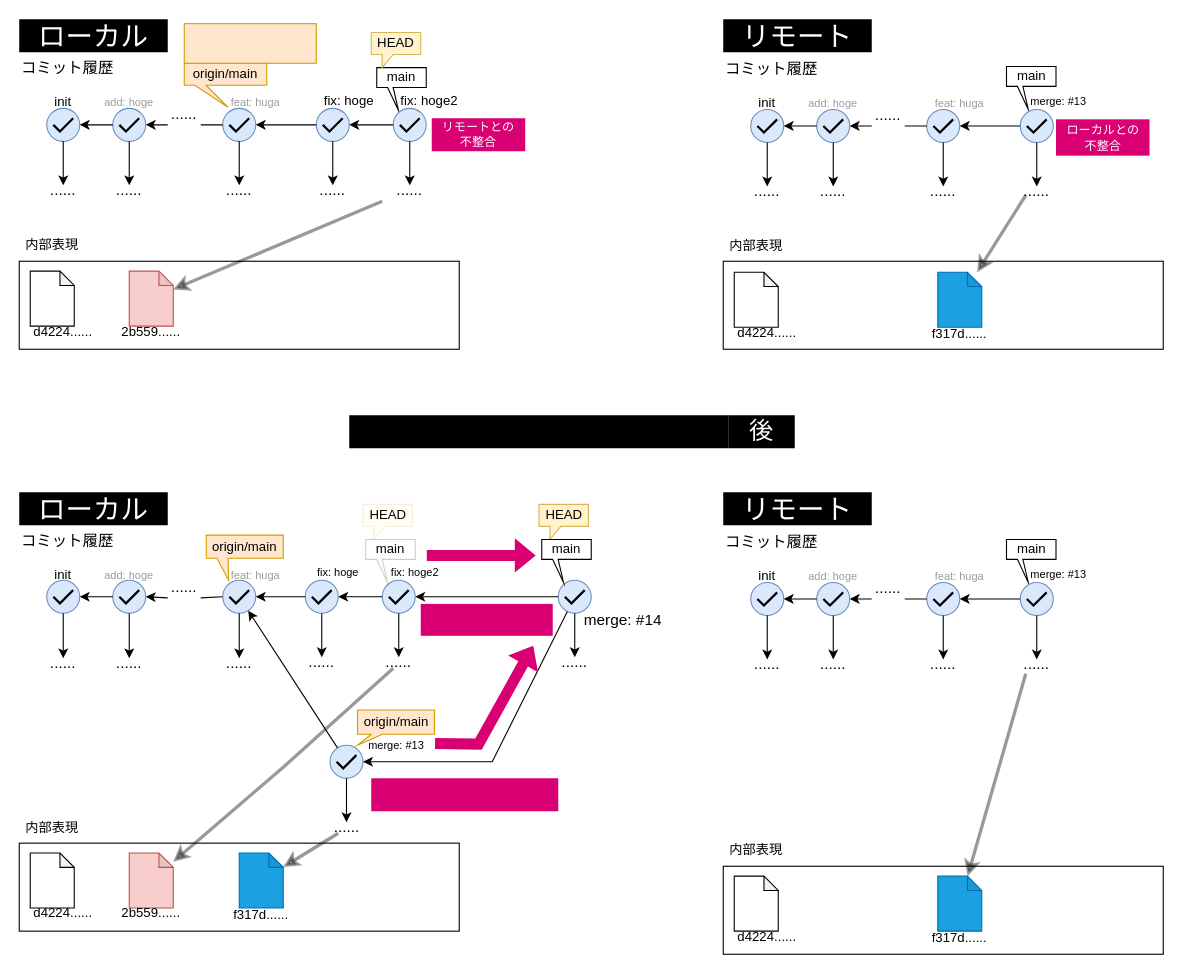
This 1183x974 diagram has some shape labels left out. The box of each missing label's shape, as (x1, y1, x2, y2) in pixels:
git pull origin main: (349, 415, 728, 448)
merge commit: (420, 603, 552, 635)
リモート追跡ブランチ: (183, 23, 316, 63)
リモート追跡ブランチの更新: (371, 778, 558, 811)
